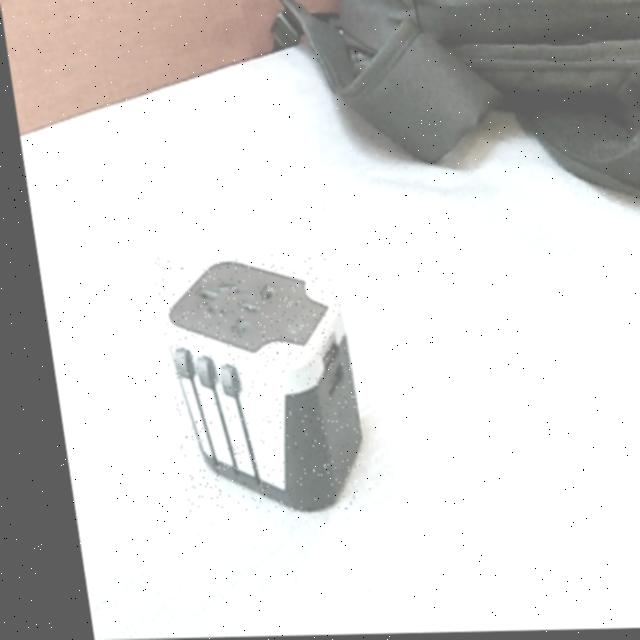adapter: (143, 255, 357, 515)
